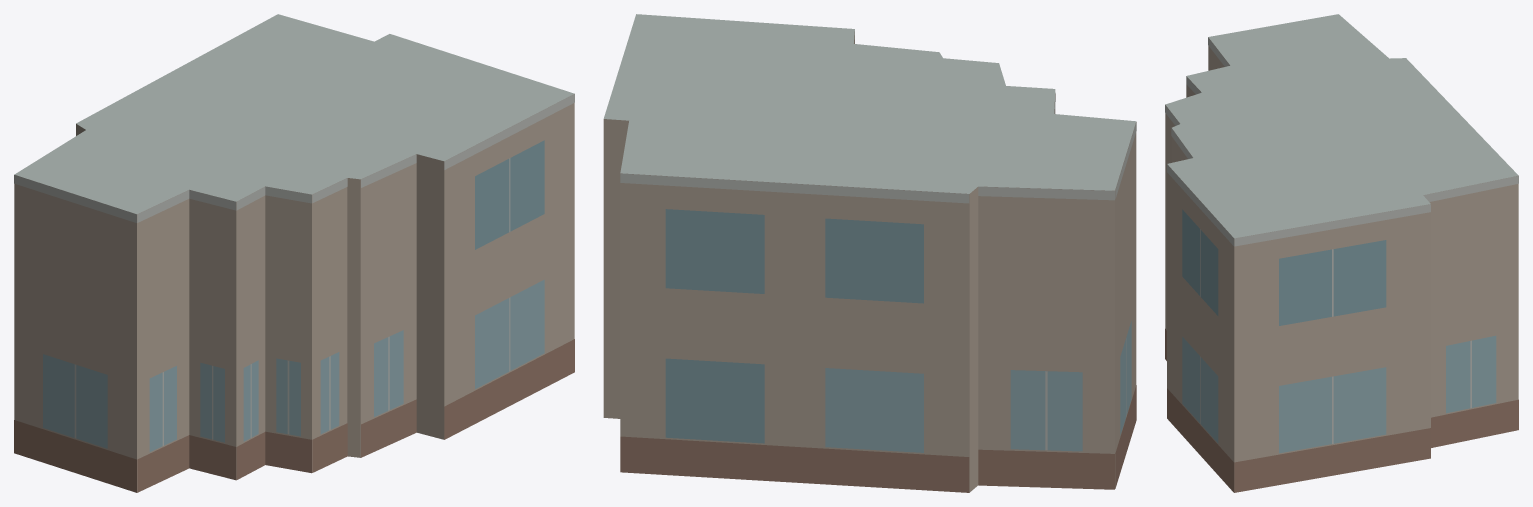
File: survey-upis-32491688.glb
3 renders of one model, left to right at view 1: azimuth 30°, elevation 25°; view 2: azimuth 150°, elevation 25°; view 3: azimuth 270°, elevation 25°, orthographic. The views are drawn at different scales.
Parts seen in each view (by area): view 1: survey-upis-32491688.tmp; view 2: survey-upis-32491688.tmp; view 3: survey-upis-32491688.tmp.
Part boxes in pixels (x1,y1,x2,y2): survey-upis-32491688.tmp: (14, 14, 574, 492); survey-upis-32491688.tmp: (603, 14, 1136, 492); survey-upis-32491688.tmp: (1165, 14, 1518, 492).
Bounding box in the file's own units: 14.38 × 7.6 × 9.58.
